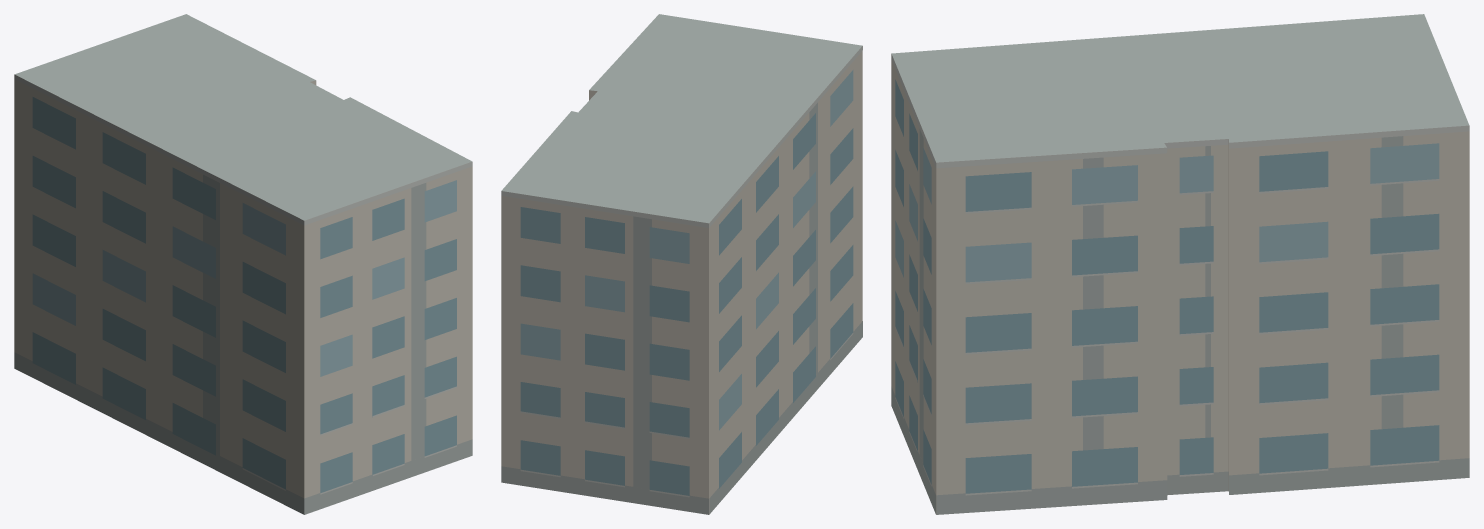
File: survey-upis-32713512.glb
The picture shows the model from 3 angles, left to right: view 1: azimuth 30°, elevation 25°; view 2: azimuth 150°, elevation 25°; view 3: azimuth 270°, elevation 25°; orthographic projection. The views are drawn at different scales.
Visible parts, largest first — view 1: survey-upis-32713512.tmp; view 2: survey-upis-32713512.tmp; view 3: survey-upis-32713512.tmp.
Boxes of the visible parts, bbox=[...] form: survey-upis-32713512.tmp: bbox=[14, 14, 472, 514]; survey-upis-32713512.tmp: bbox=[501, 14, 862, 514]; survey-upis-32713512.tmp: bbox=[891, 14, 1469, 514].
Size of the model in its own units: 13.4 by 14.8 by 22.02.
